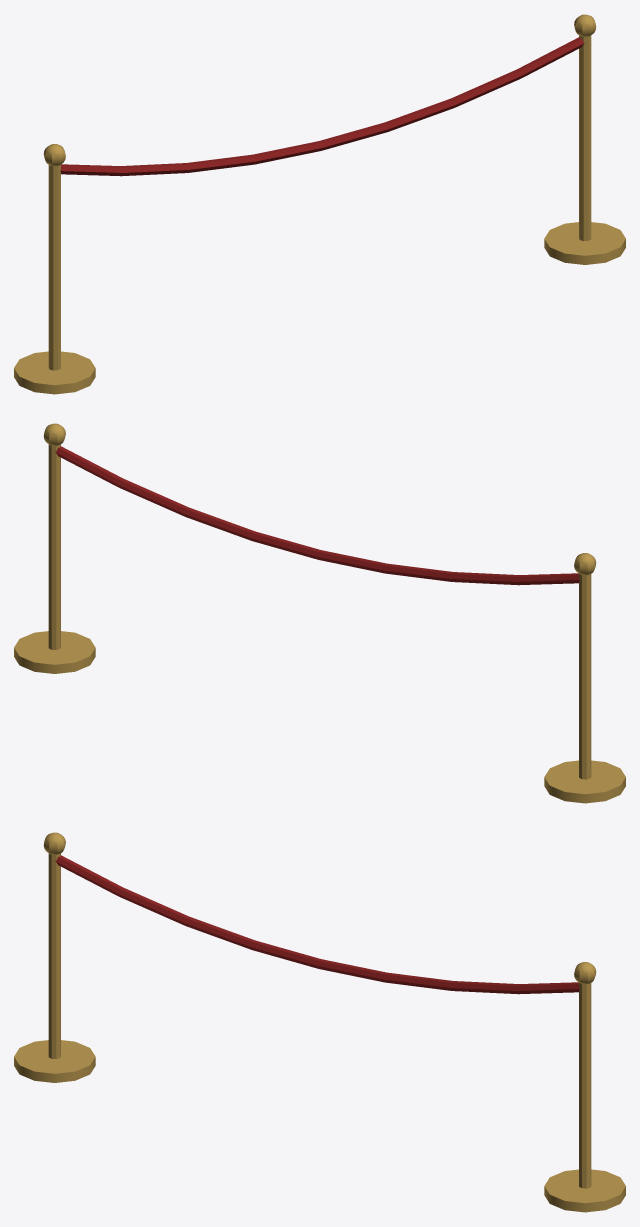
The model's file is rope_barrier.glb.
3 views of the same model, one above another, from view 1: azimuth 30°, elevation 25°; view 2: azimuth 150°, elevation 25°; view 3: azimuth 330°, elevation 25° (orthographic).
Visible parts, largest first — view 1: RopeBarrier; view 2: RopeBarrier; view 3: RopeBarrier.
Boxes of the visible parts, <box> form: RopeBarrier: <box>14,14,625,394</box>; RopeBarrier: <box>14,423,625,803</box>; RopeBarrier: <box>14,832,625,1212</box>.
Size of the model in its own units: 2.72 by 1 by 0.32.
